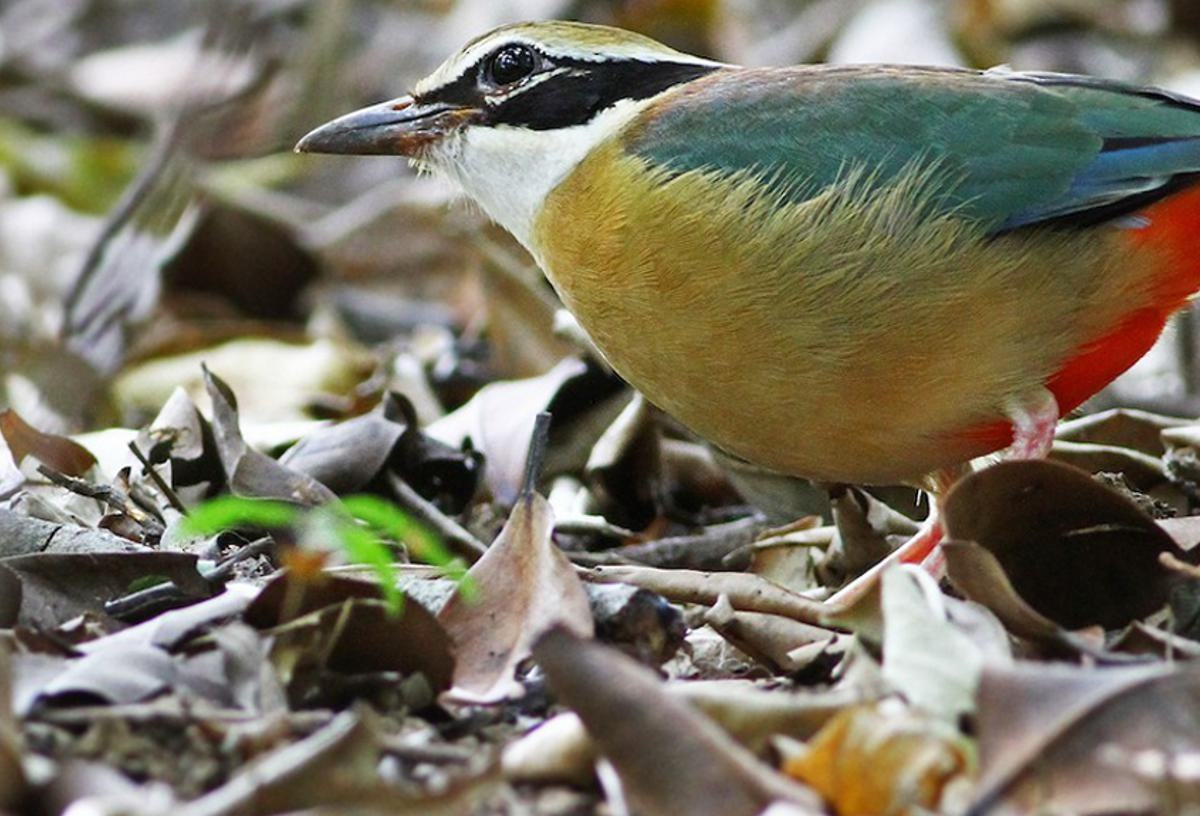pitta: (301, 31, 1178, 505)
